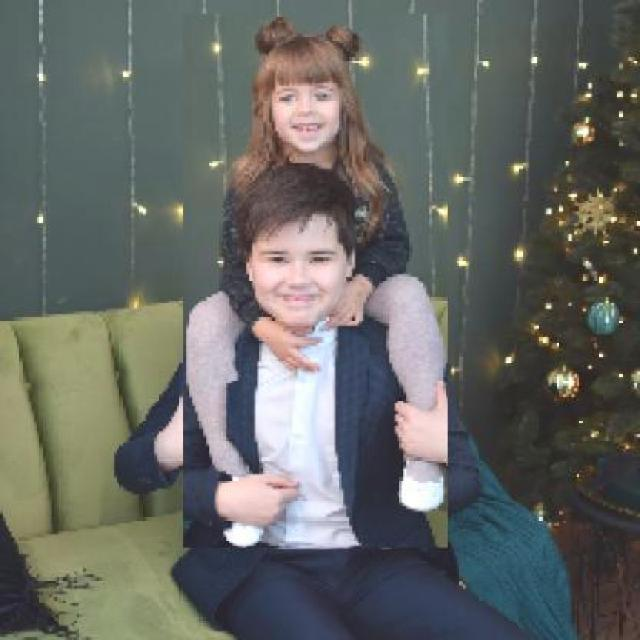child: (182, 14, 448, 549)
